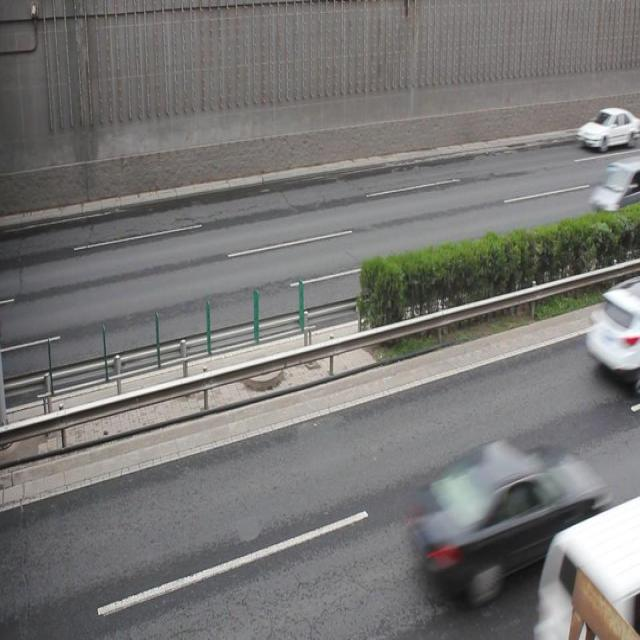car: (412, 443, 607, 600), (588, 283, 640, 393), (577, 105, 640, 151)
truck: (540, 495, 640, 640), (587, 162, 640, 214)
